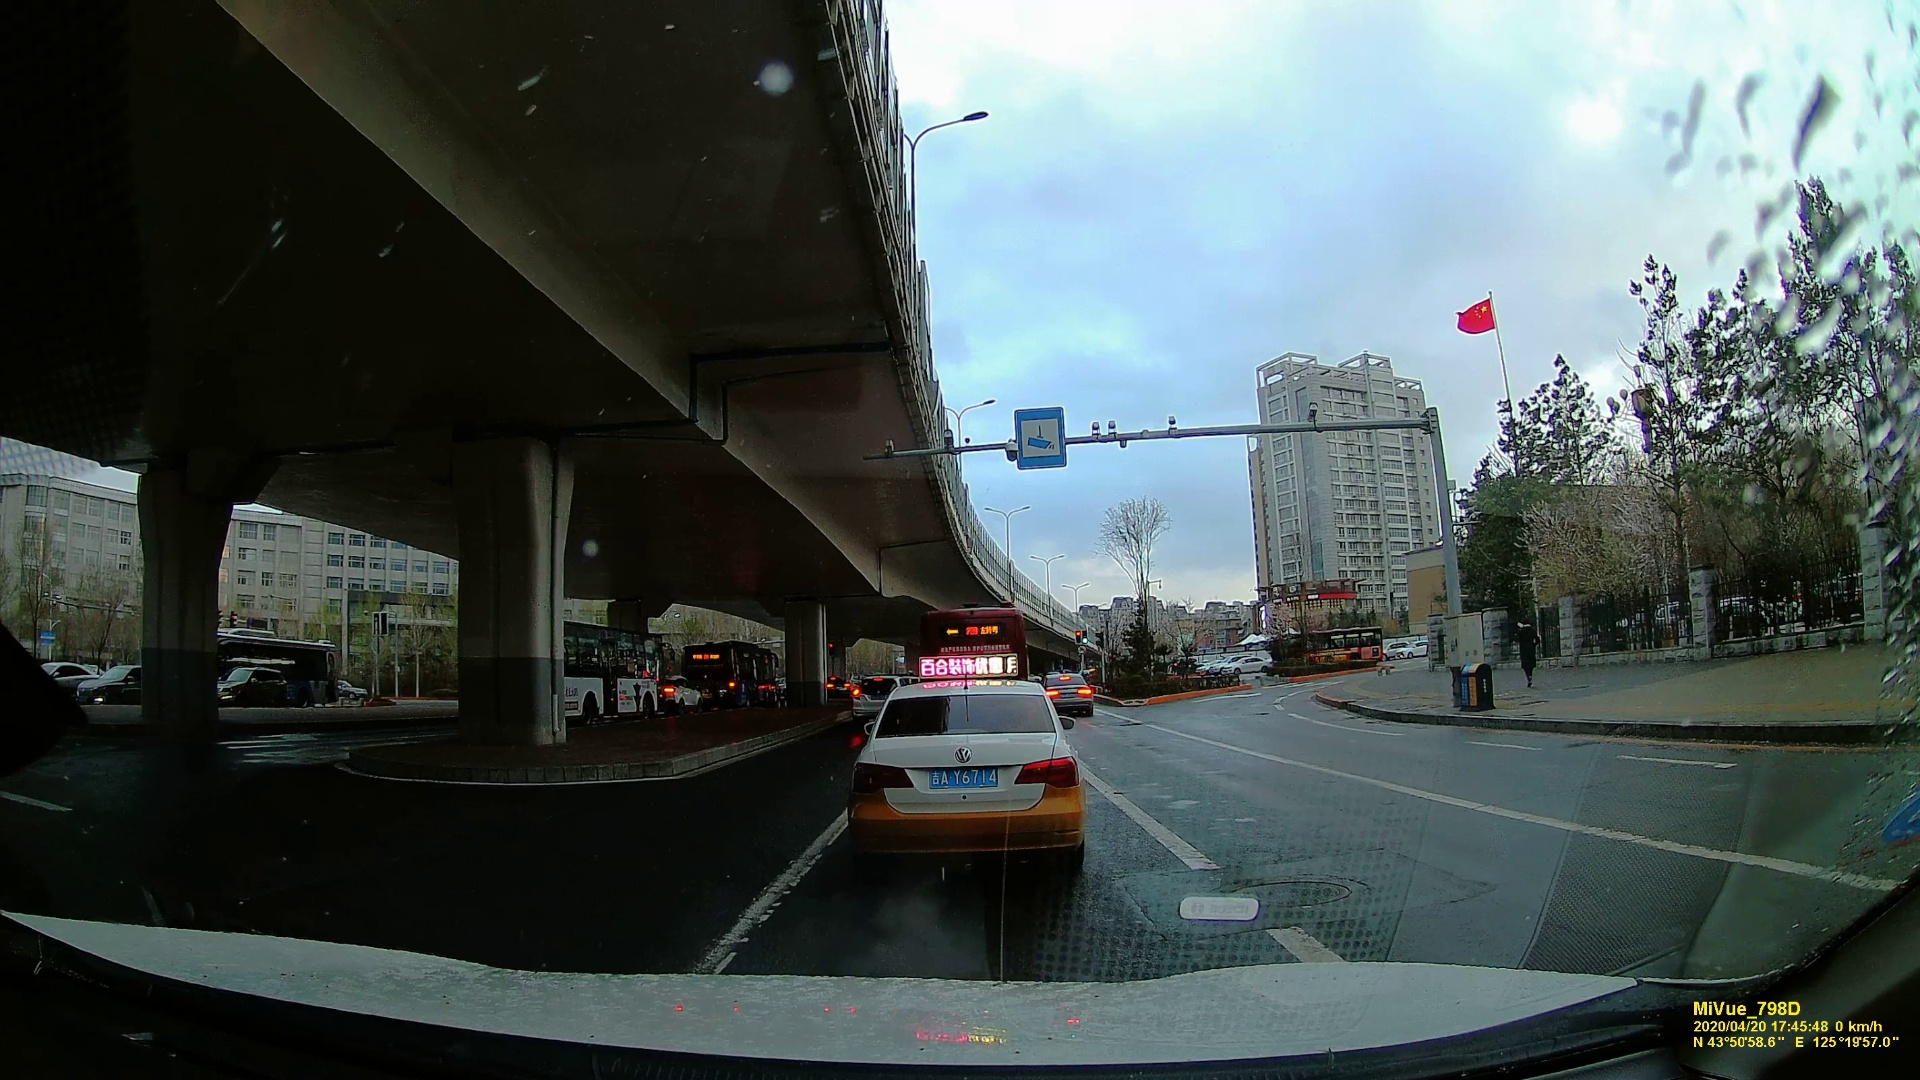bus: (568, 624, 660, 728), (921, 604, 1024, 685), (686, 641, 779, 706)
person: (1510, 618, 1542, 688)
traffic_sign: (1016, 406, 1068, 467)
vehicle: (852, 671, 1085, 859), (1039, 672, 1096, 716)
